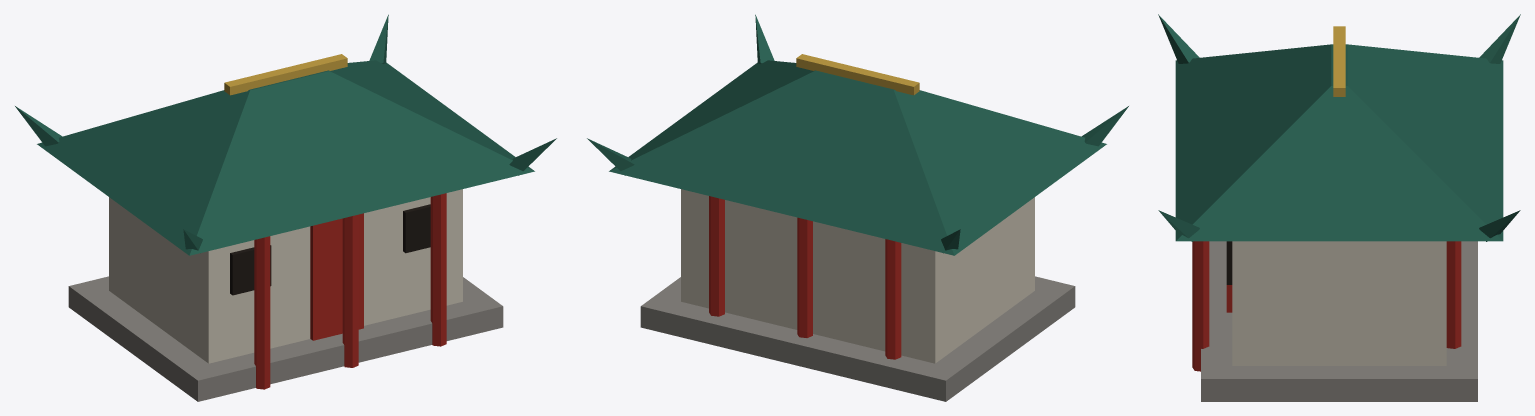
The model's file is dragon_house_a.glb.
3 renders of one model, left to right at view 1: azimuth 30°, elevation 25°; view 2: azimuth 150°, elevation 25°; view 3: azimuth 270°, elevation 25°, orthographic. The views are drawn at different scales.
Visible parts, largest first — view 1: dragon_house_a; view 2: dragon_house_a; view 3: dragon_house_a.
Boxes of the visible parts, bbox=[...] form: dragon_house_a: bbox=[15, 14, 556, 401]; dragon_house_a: bbox=[587, 14, 1128, 401]; dragon_house_a: bbox=[1158, 14, 1520, 401].
Bounding box in the file's own units: 3.68 × 2.32 × 2.88.
